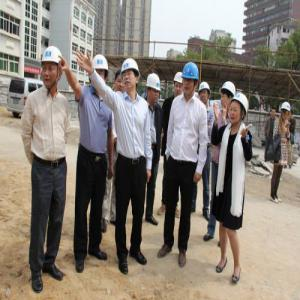blue: (182, 62, 200, 98)
none: (114, 71, 124, 94)
white: (41, 44, 63, 90), (91, 53, 109, 91), (123, 59, 141, 93), (230, 96, 248, 124), (146, 74, 161, 103), (220, 81, 236, 108), (200, 81, 211, 105), (174, 72, 184, 97), (282, 101, 292, 122)
